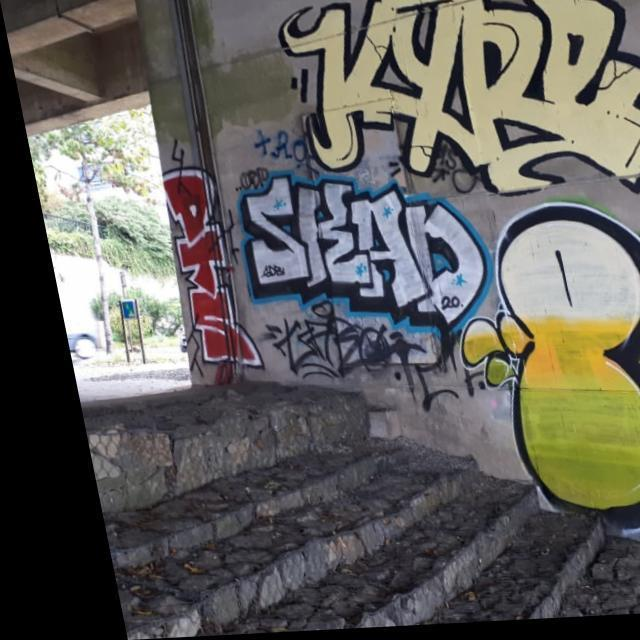-: (249, 0, 640, 198), (480, 220, 640, 600), (223, 166, 479, 337), (150, 168, 252, 380), (263, 312, 399, 392)
